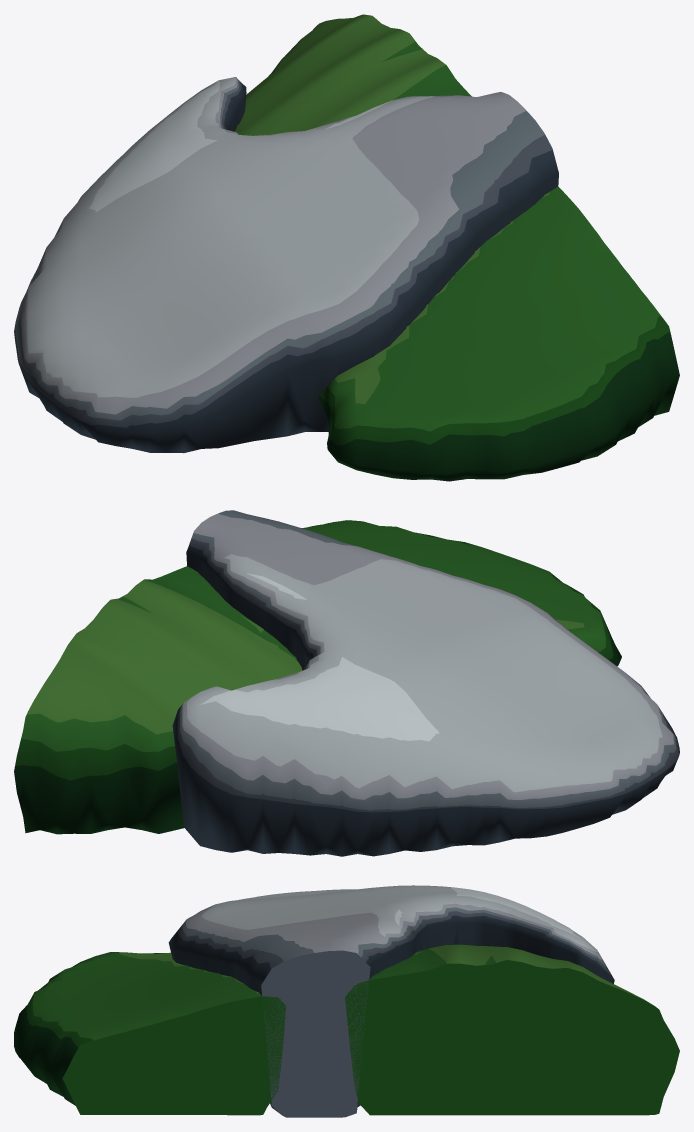
Rendered from torm_beetle_seg1_l.glb.
3 renders of one model, top to bottom at view 1: azimuth 30°, elevation 25°; view 2: azimuth 150°, elevation 25°; view 3: azimuth 270°, elevation 25°, orthographic. The views are drawn at different scales.
Visible parts, largest first — view 1: torm_beetle_seg1_l; view 2: torm_beetle_seg1_l; view 3: torm_beetle_seg1_l.
Boxes of the visible parts, x1,y1,x2,y2 form: torm_beetle_seg1_l: (14,14,679,481); torm_beetle_seg1_l: (14,510,679,856); torm_beetle_seg1_l: (14,885,679,1117).
Bounding box in the file's own units: 17.99 × 7.33 × 26.49.
